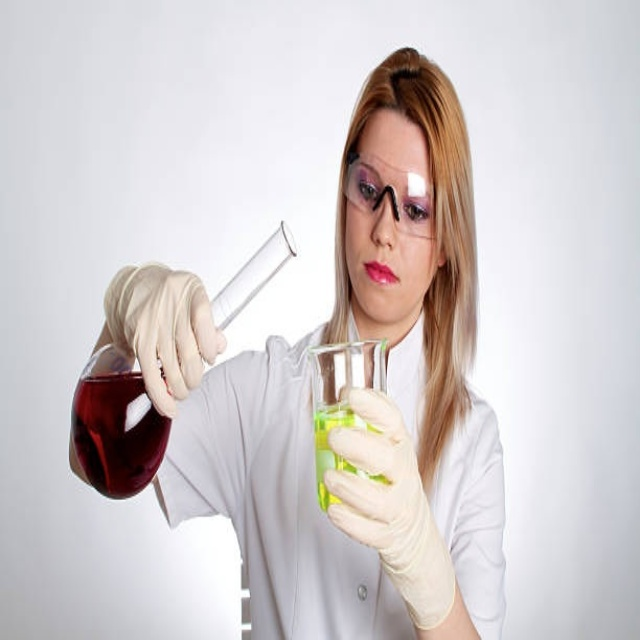Gafas: (345, 152, 439, 238)
Guantes: (314, 376, 460, 631), (101, 257, 227, 421)
Sin_mascara: (353, 250, 408, 311)
